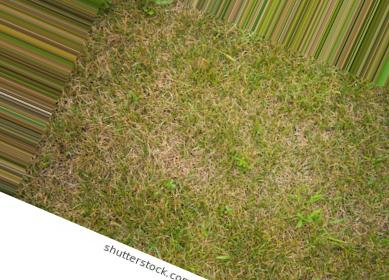patch: (120, 89, 206, 151), (152, 160, 248, 193), (233, 96, 287, 150), (264, 161, 313, 197), (298, 119, 335, 156), (207, 103, 230, 137)
